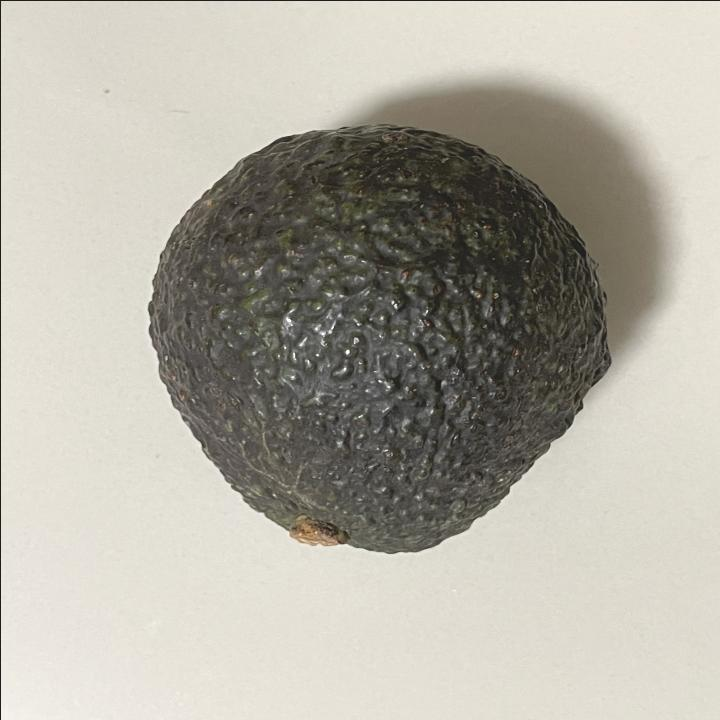Level1: (134, 112, 620, 568)
